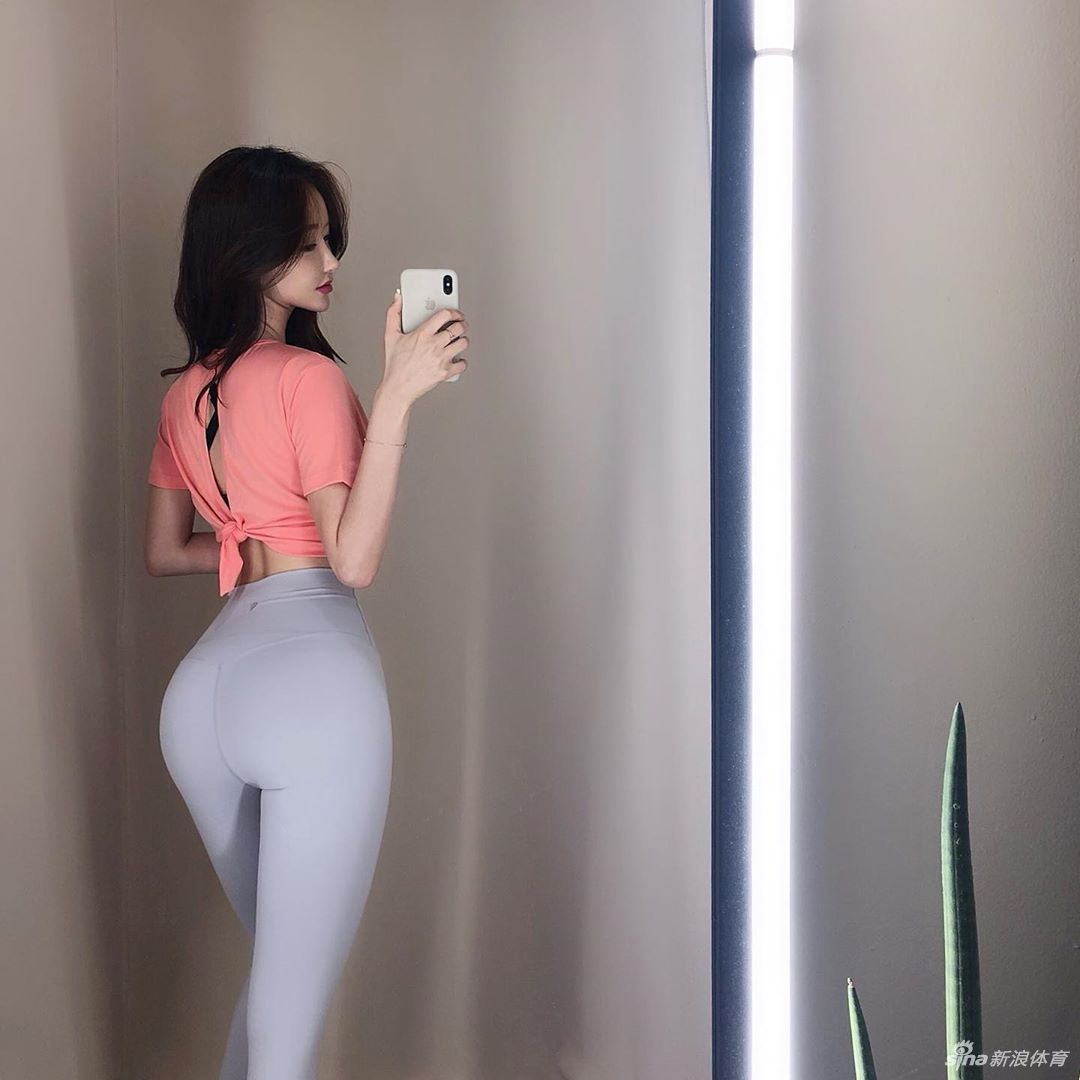person: (127, 142, 483, 1078)
